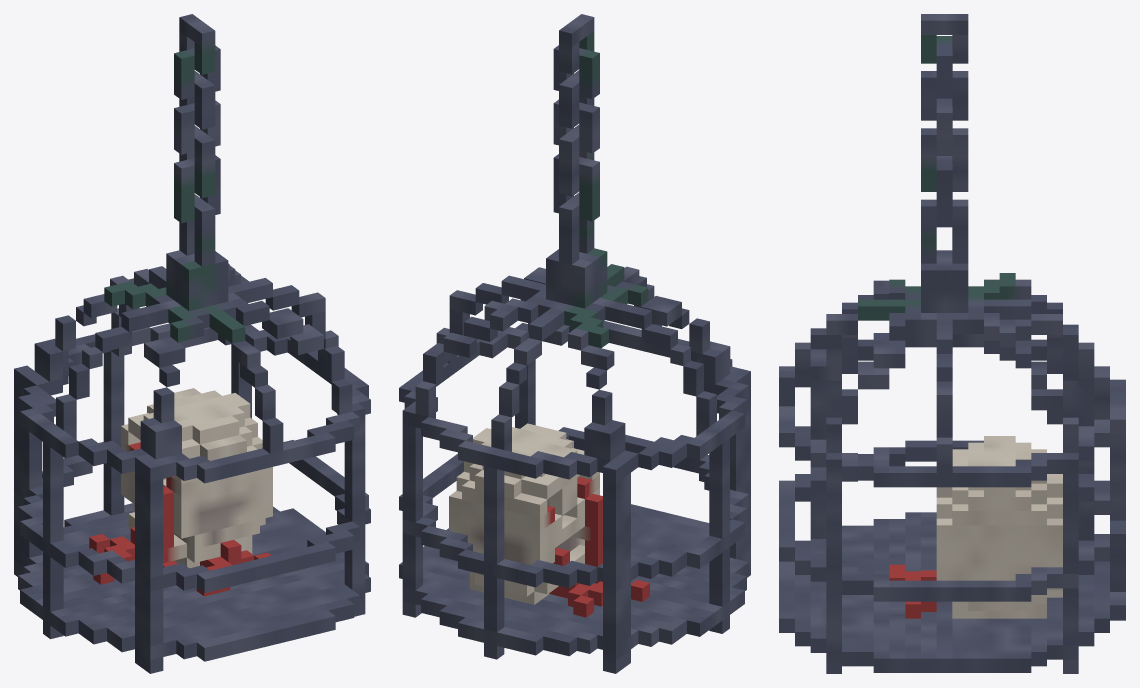
File: BirdCage_state_3.fbx
The picture shows the model from 3 angles, left to right: view 1: azimuth 30°, elevation 25°; view 2: azimuth 150°, elevation 25°; view 3: azimuth 270°, elevation 25°; orthographic projection. The views are drawn at different scales.
Visible parts, largest first — view 1: BirdCage_state_3; view 2: BirdCage_state_3; view 3: BirdCage_state_3.
Boxes of the visible parts, x1,y1,x2,y2 form: BirdCage_state_3: (14,14,370,673); BirdCage_state_3: (399,14,750,673); BirdCage_state_3: (779,14,1125,673).
Bounding box in the file's own units: 22 × 42 × 22.
1 material, 1 textured.
